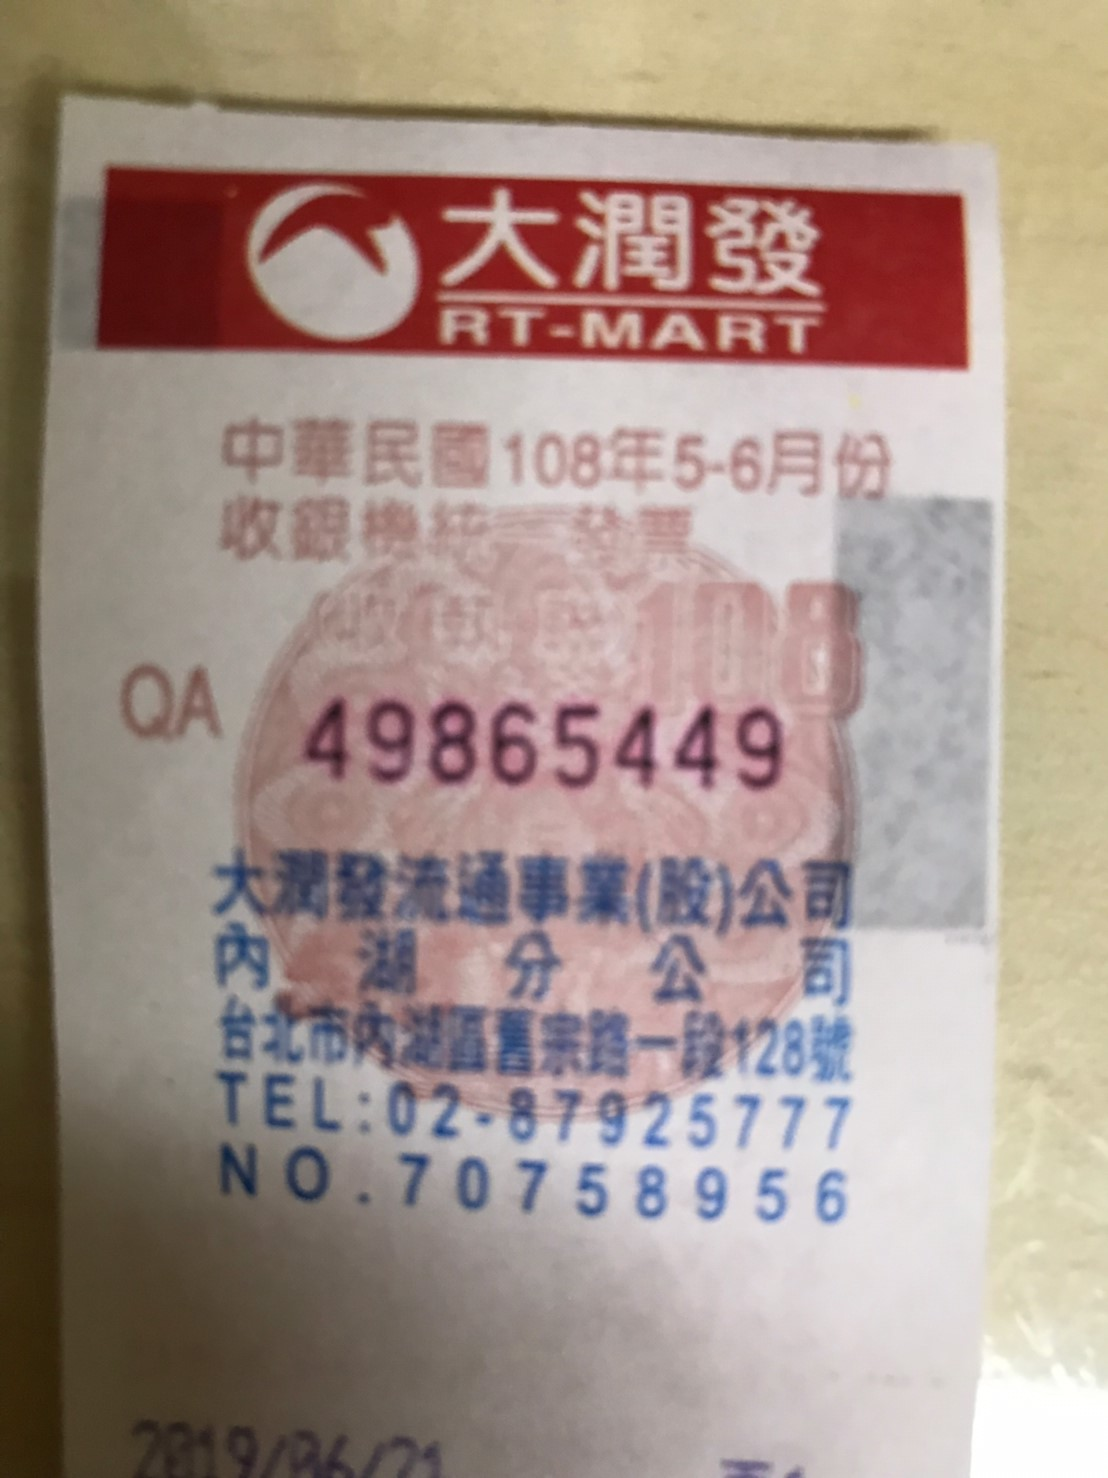Date_Old: (498, 417, 899, 504)
Number_Old: (300, 678, 794, 794)
